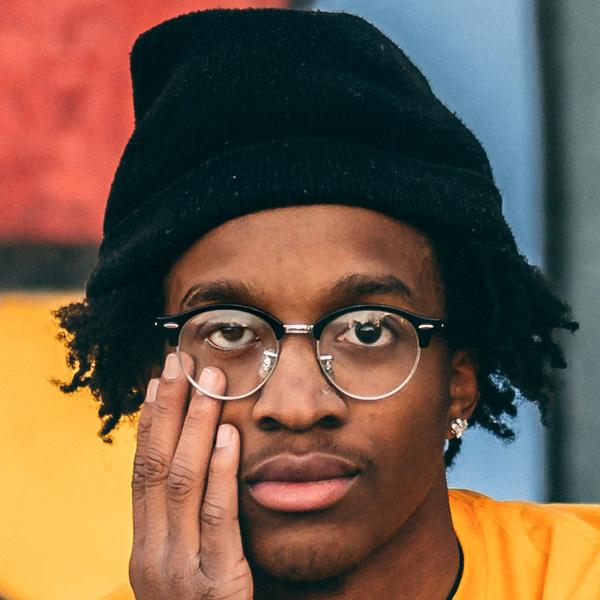Eyes: (326, 307, 412, 359), (195, 309, 266, 364)
